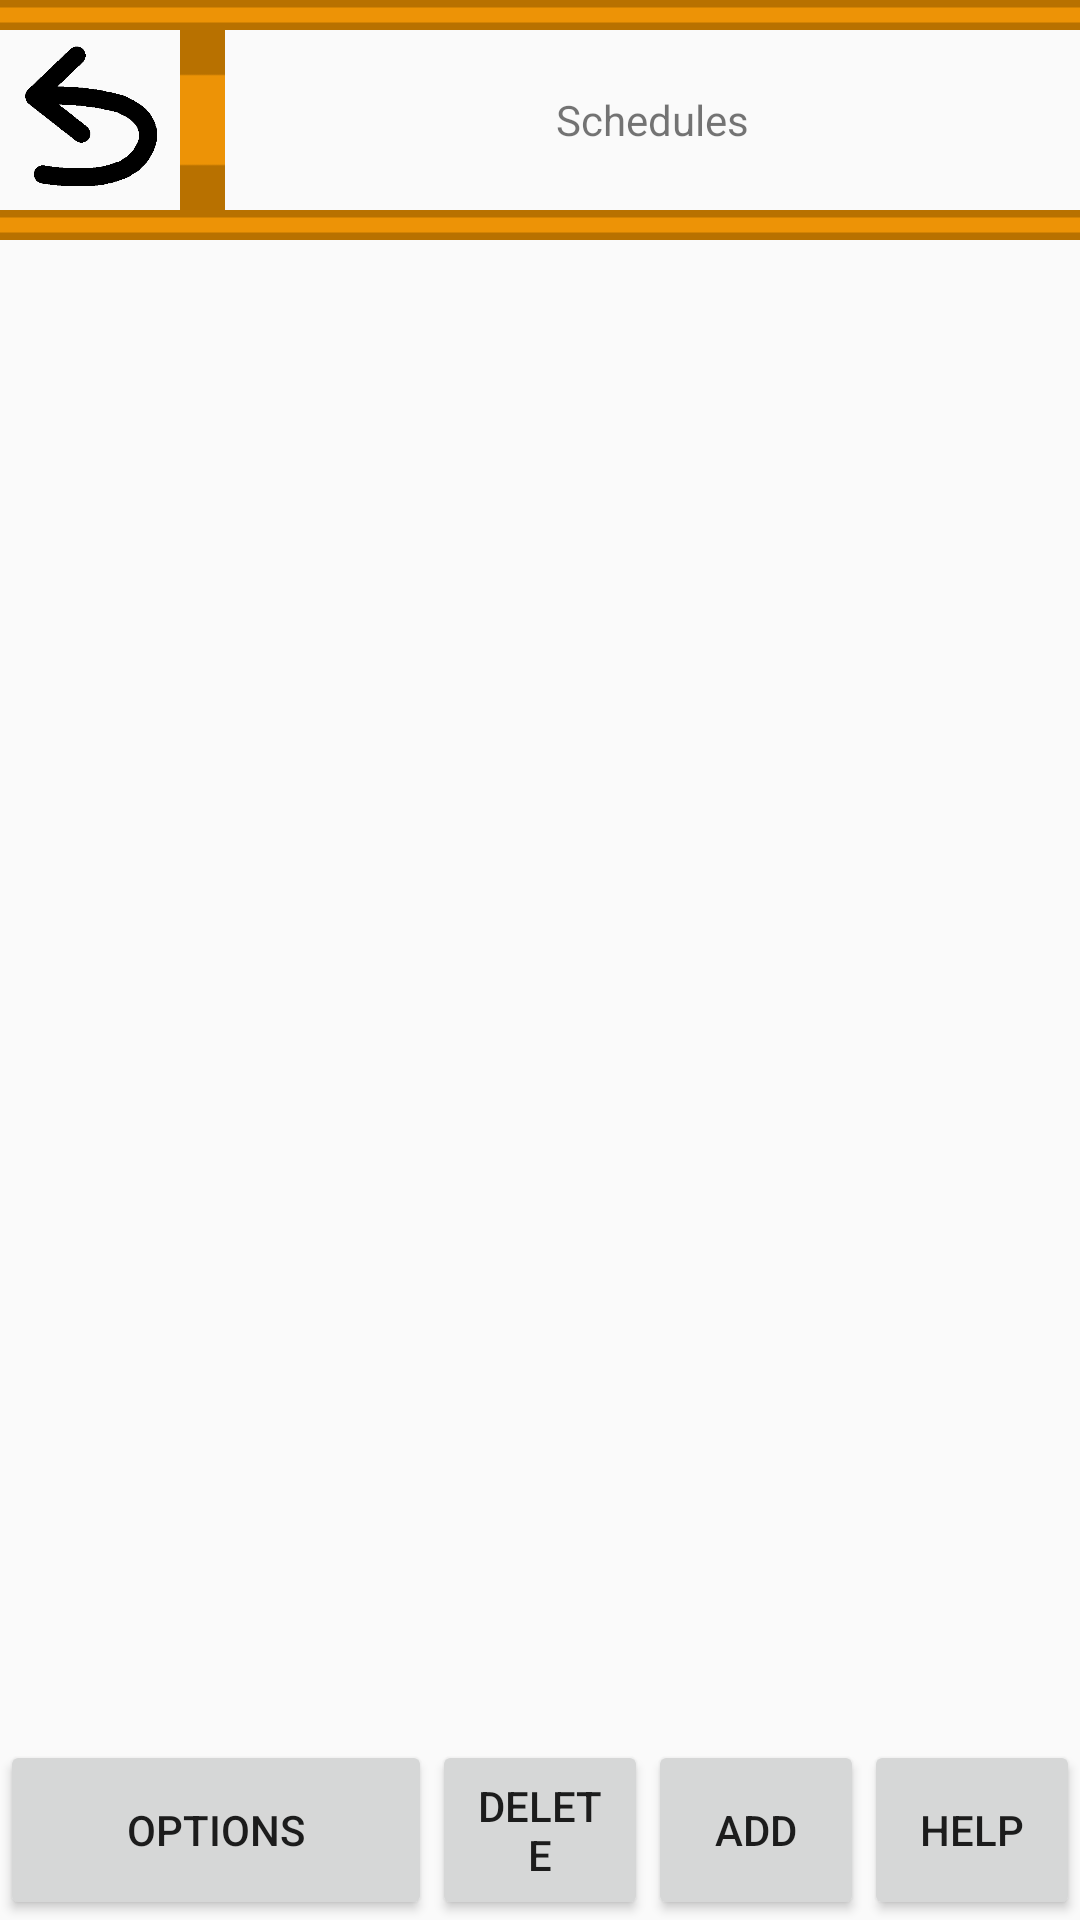

Icons on this 1080*1920 Android screen, each with the point to tap as point (x, y):
backbutton: point (90, 120)
